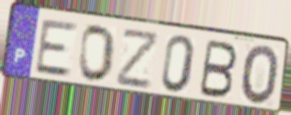0: (160, 34, 197, 96)
B: (196, 38, 239, 100)
E: (33, 18, 80, 79)
O: (239, 44, 281, 108), (77, 23, 118, 84)
Z: (115, 29, 162, 91)
